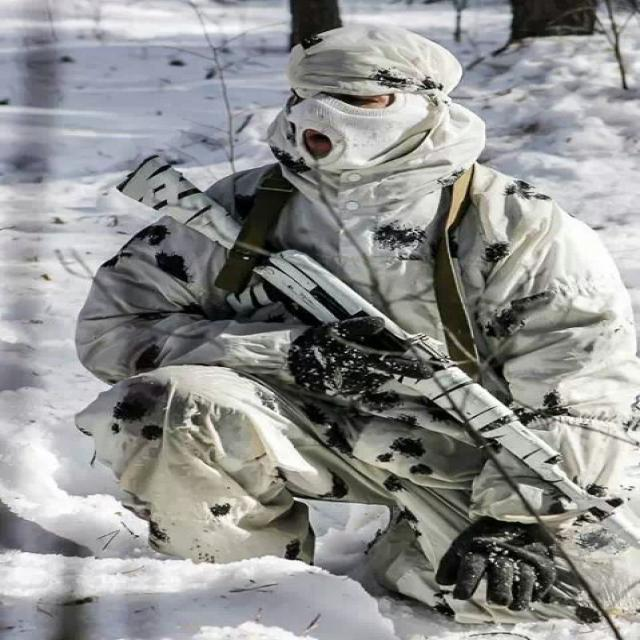Human: (76, 23, 639, 614)
